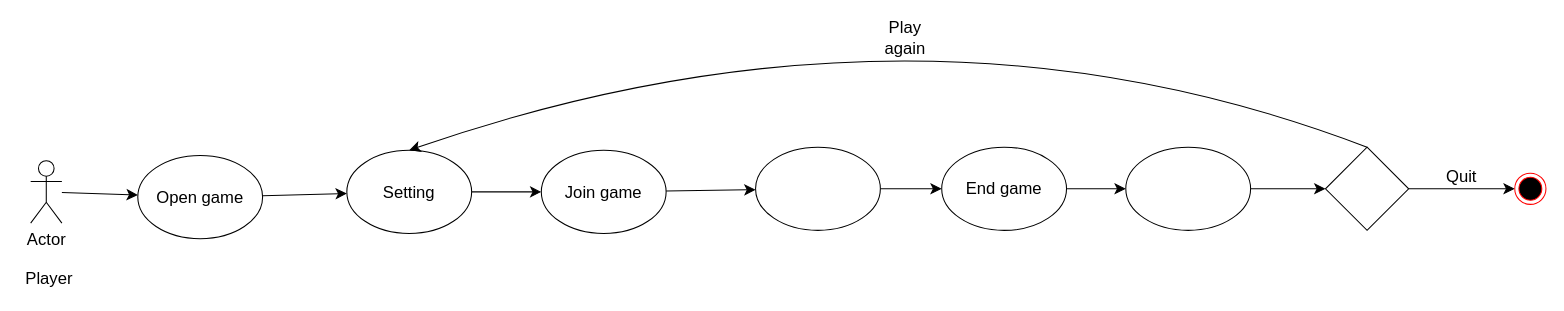
Image size: 1564x311. Some labels were removed from this diagram. Here are the shapes that lost their labels. From the top down, the box of each, then its label:
(755, 146, 880, 230): Playing game
(1125, 146, 1251, 230): Ask to continue or quit
